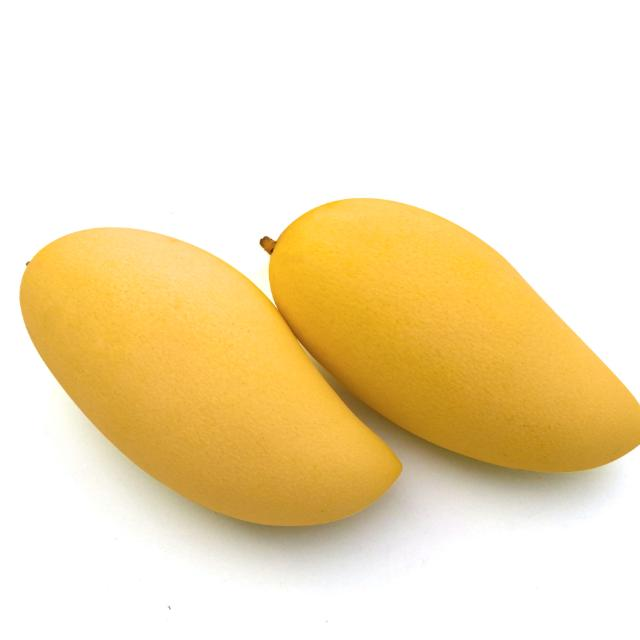mango: (15, 224, 402, 532), (266, 189, 640, 472)
